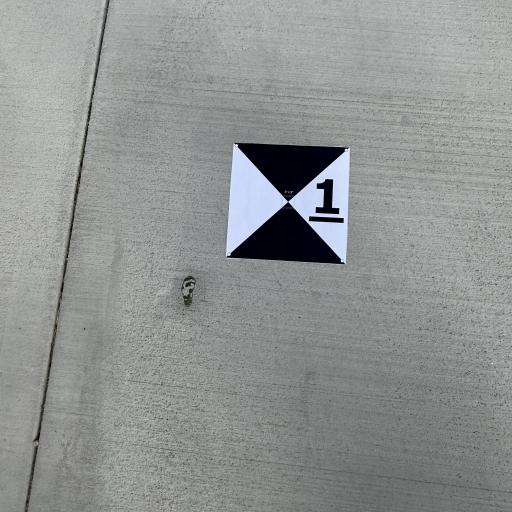target1: (225, 134, 358, 272)
